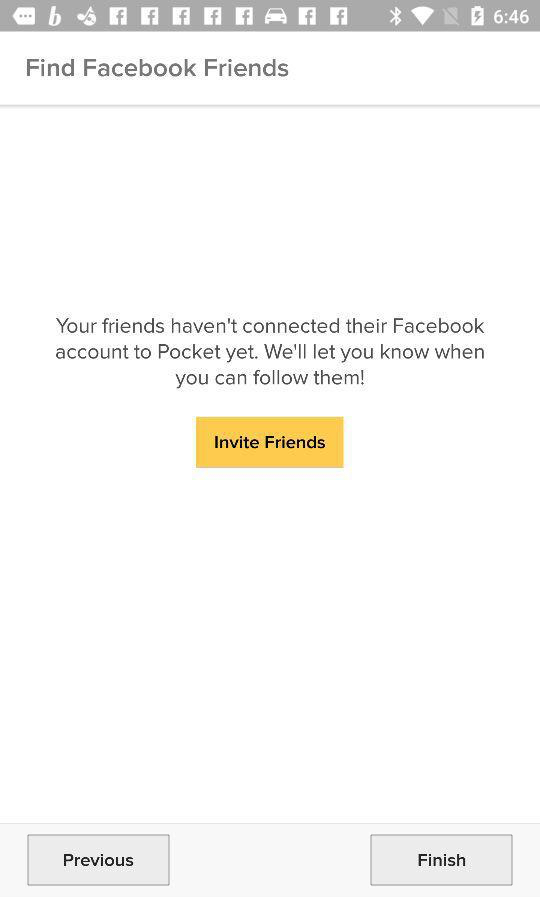Text: (55, 317, 485, 390), (27, 58, 289, 78)
TextButton: (196, 417, 344, 469), (28, 833, 171, 886), (370, 834, 513, 886)
UpperTaskBar: (1, 1, 540, 33)
